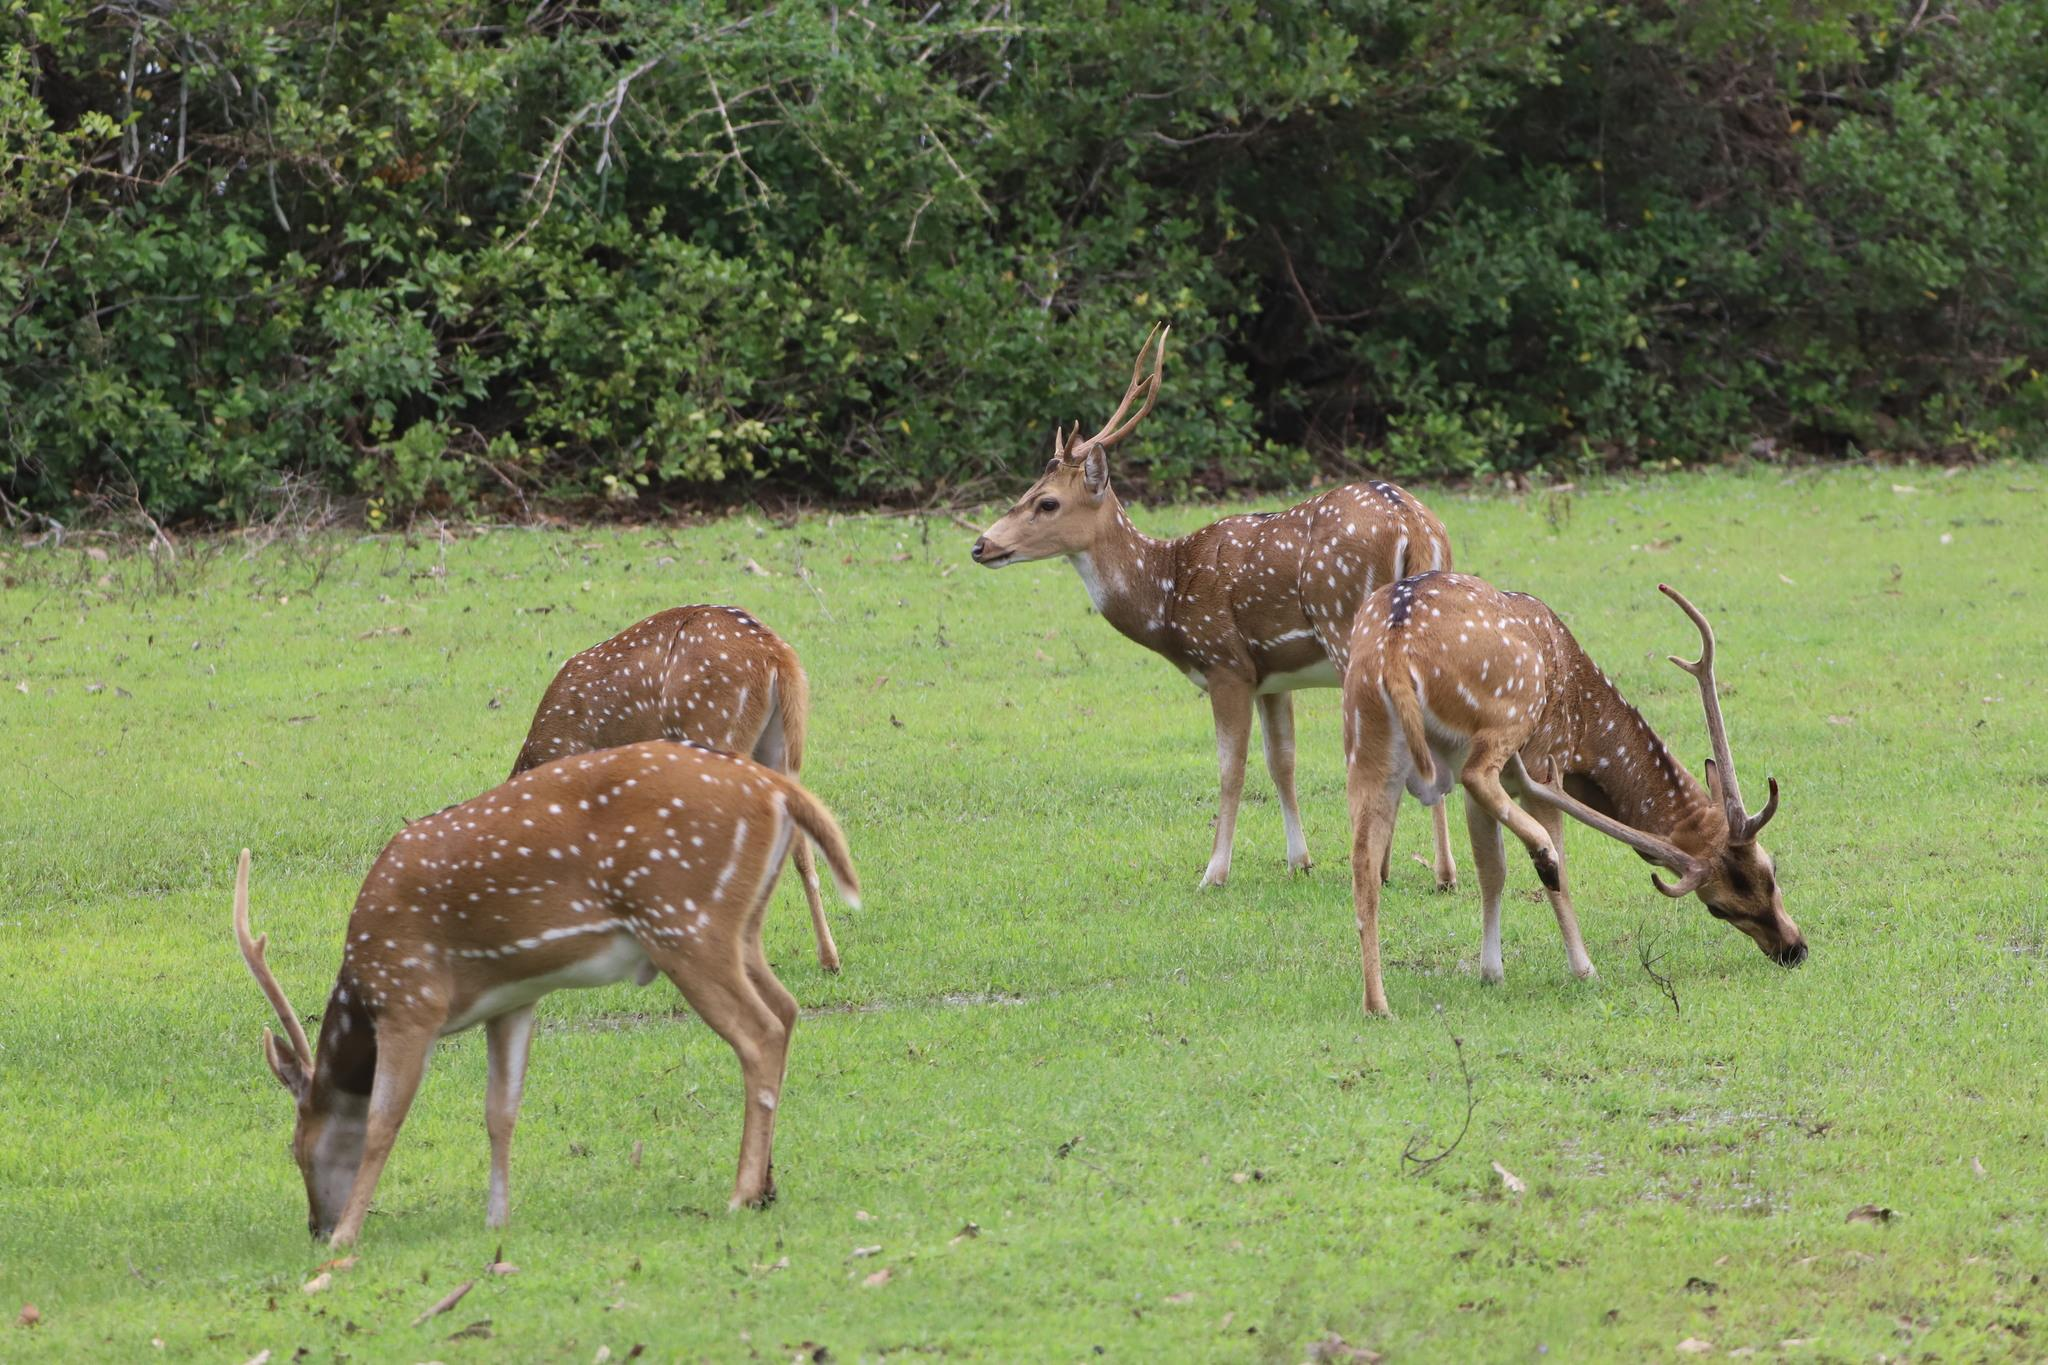Deer: (234, 740, 859, 1246), (971, 324, 1451, 887), (1341, 571, 1806, 1015), (513, 605, 809, 775)
